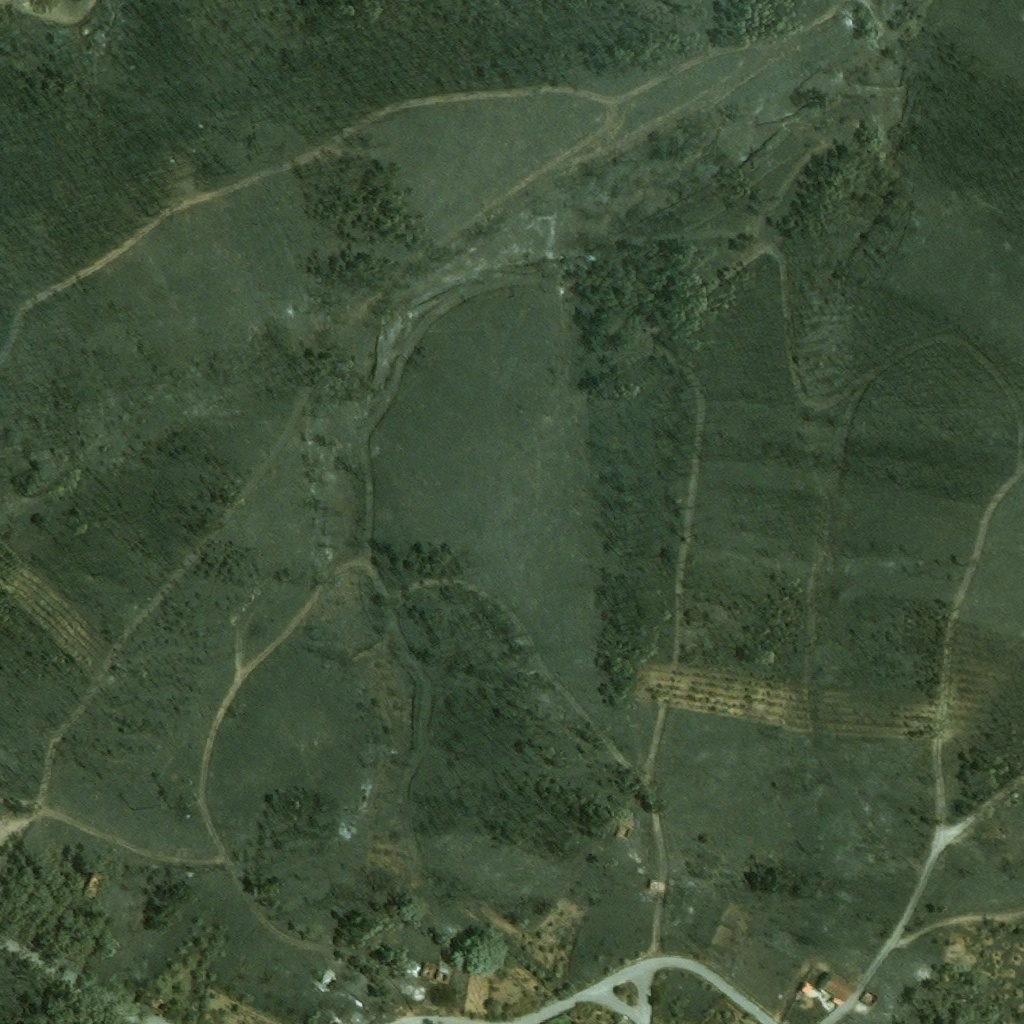0 no-damage: (817, 970, 857, 1007), (799, 980, 814, 995), (650, 880, 660, 891)
3 destroyed: (410, 959, 454, 985), (314, 971, 337, 996), (614, 816, 635, 841), (857, 990, 878, 1008)
